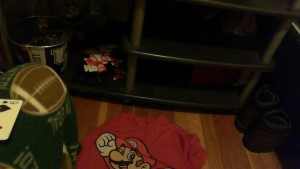NineOfSpades: (1, 96, 24, 140)
